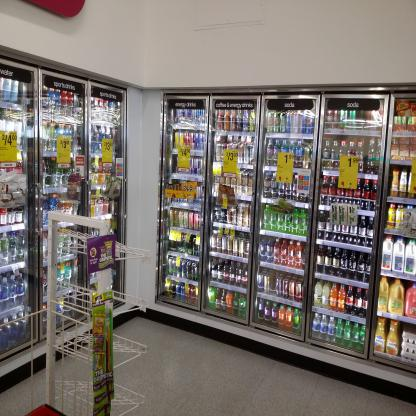Void: (359, 113, 371, 132), (403, 325, 416, 334), (270, 279, 274, 298)
